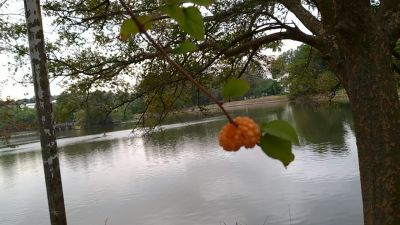eggs: (219, 116, 261, 153)
